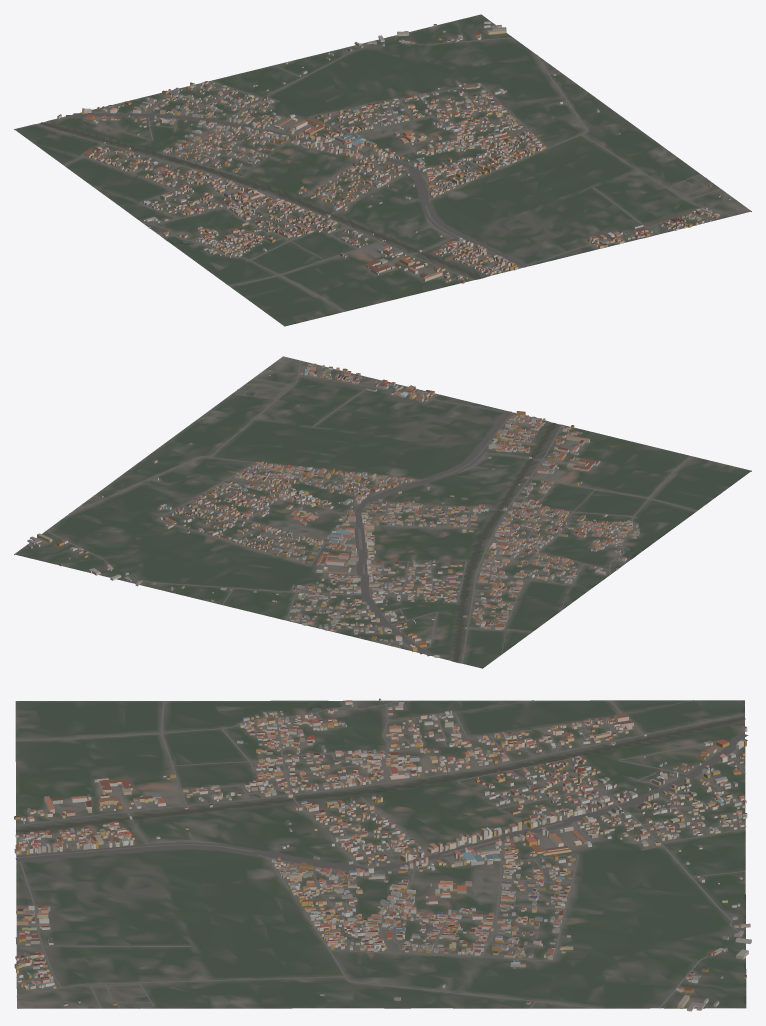
3 views of the same model, one above another, from view 1: azimuth 30°, elevation 25°; view 2: azimuth 150°, elevation 25°; view 3: azimuth 270°, elevation 25° (orthographic). The views are drawn at different scales.
Visible parts, largest first — view 1: ground, buildings, roads, water; view 2: ground, buildings, roads, water; view 3: ground, buildings, roads, water.
Boxes of the visible parts, x1=… form: ground: x1=14, y1=14, x2=751, y2=326; buildings: x1=57, y1=21, x2=730, y2=283; roads: x1=33, y1=37, x2=733, y2=311; water: x1=40, y1=122, x2=481, y2=278; ground: x1=14, y1=356, x2=751, y2=668; buildings: x1=27, y1=363, x2=639, y2=657; roads: x1=46, y1=360, x2=697, y2=663; water: x1=454, y1=422, x2=635, y2=662; ground: x1=15, y1=700, x2=746, y2=1008; buildings: x1=14, y1=698, x2=751, y2=1011; roads: x1=15, y1=700, x2=748, y2=1008; water: x1=16, y1=702, x2=745, y2=831.
Size of the model in its own units: 1417 by 23.66 by 1418.
